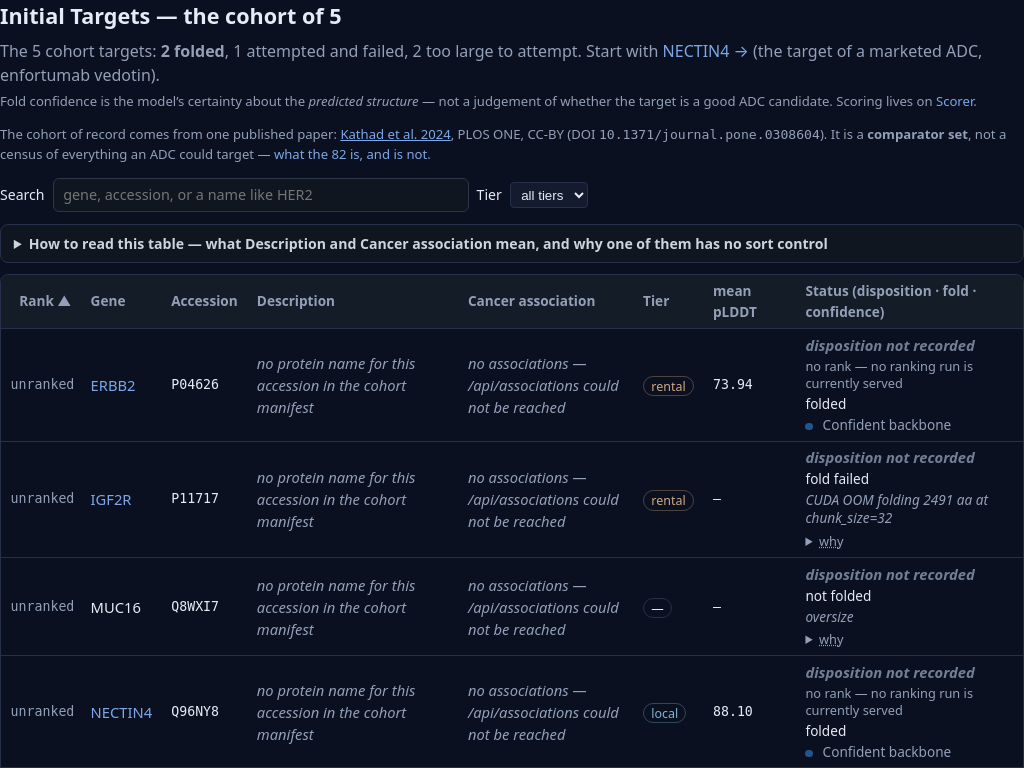
Test: the search box, and the name on the drug label › says so when nothing matches, rather than showing an empty table
The width and height of the screenshot is (1024, 768).
Type "ZZZZ" into the search field labelled "Search".
click(261, 195); type("ZZZZ")  # box [53,178,469,212]
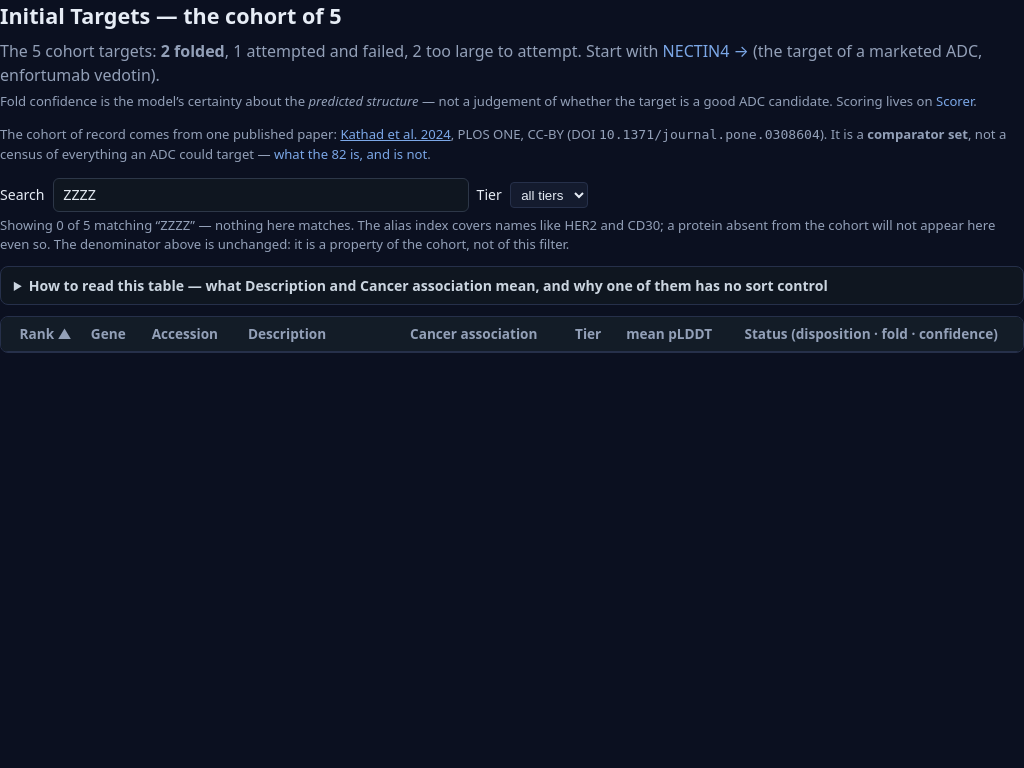
Expected: the text with class "filter-count" shows "nothing here matches", [0,216,995,253]
